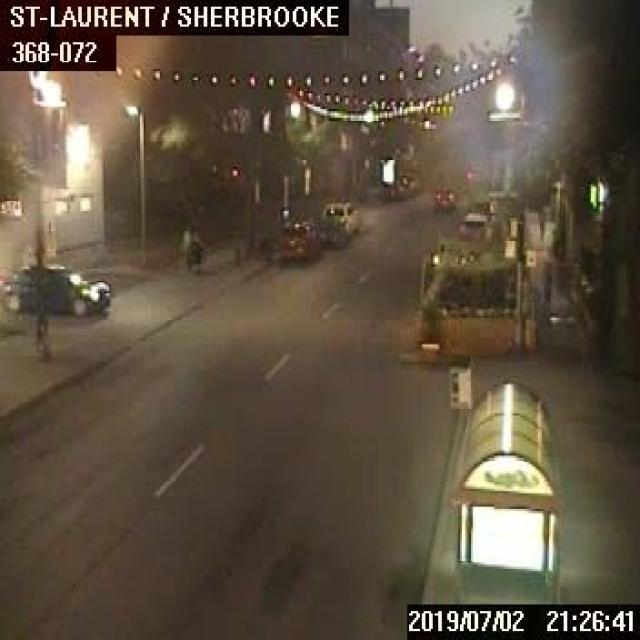pedestrian: (177, 224, 203, 269), (540, 256, 552, 302), (536, 206, 545, 238)
vehicle: (0, 264, 109, 314), (271, 213, 319, 263), (321, 200, 357, 231), (457, 210, 486, 239), (432, 187, 454, 209)
